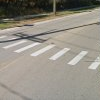crosswalk: (2, 38, 100, 69)
